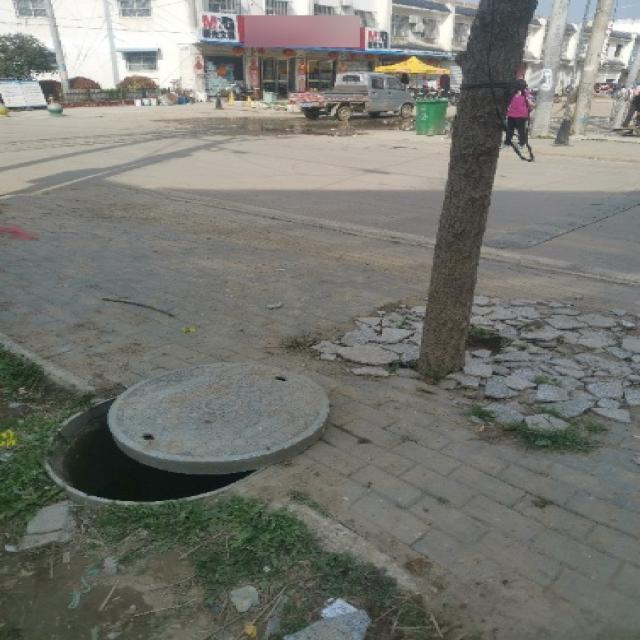Faulty: (28, 351, 353, 527)
